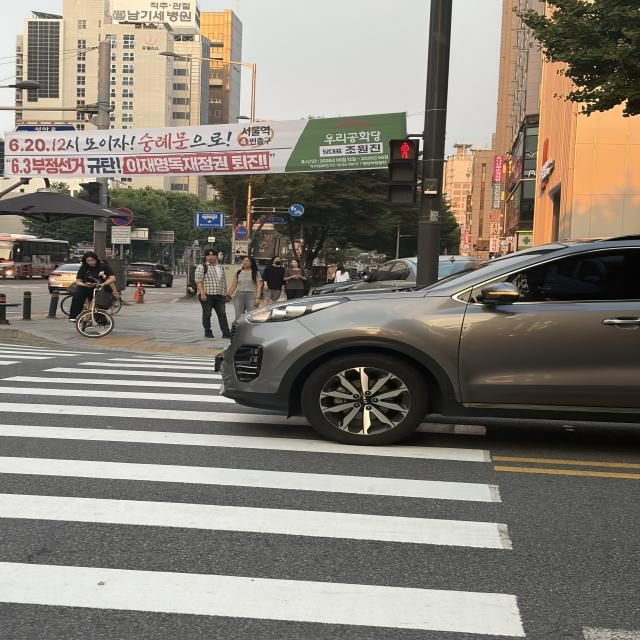car: (169, 211, 640, 463)
